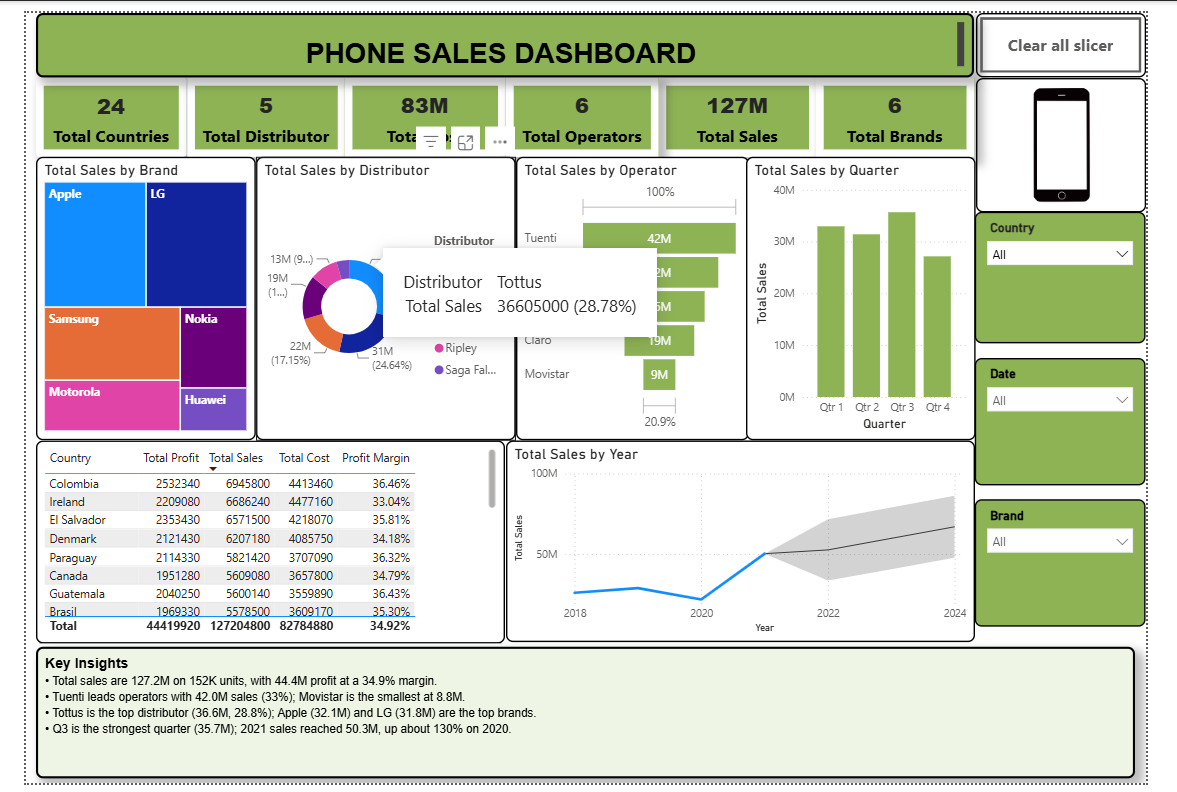

What the dashboard file says about the page in this screenshot:
{"tool":"powerbi","page":{"name":"PHONE SALE DASHBOARD","canvas":[1280,880],"ordinal":1},"visuals":[{"type":"card","fields":{"Values":["calculationdata.Total Countries"]},"box":[12,73.8,171.7,90.4],"z":0},{"type":"card","fields":{"Values":["calculationdata.Total Distributor"]},"box":[183.7,73.8,180.7,90.4],"z":1000},{"type":"card","fields":{"Values":["calculationdata.Total Cost"]},"box":[364.4,73.8,183.7,90.4],"z":2000},{"type":"card","fields":{"Values":["calculationdata.Total Sales"]},"box":[722.8,73.8,180.7,90.4],"z":3000},{"type":"card","fields":{"Values":["calculationdata.Total Opreator"]},"box":[548.1,73.8,174.7,90.4],"z":4000},{"type":"card","fields":{"Values":["calculationdata.Total Brands"]},"box":[903.5,73.8,180.7,90.4],"z":5000},{"type":"treemap","fields":{"Group":["Phone Sales.Brand"],"Values":["calculationdata.Total Sales"]},"box":[12,164.1,251.5,323.8],"z":6000},{"type":"donutChart","fields":{"Category":["Phone Sales.Distributor"],"Y":["calculationdata.Total Sales"]},"box":[263.5,164.1,296.7,323.8],"z":7000},{"type":"funnel","fields":{"Category":["Phone Sales.Operator"],"Y":["calculationdata.Total Sales"]},"box":[560.2,164.1,266.5,323.8],"z":8000},{"type":"columnChart","fields":{"Category":["Date_Phones.Date.Variation.Date Hierarchy.Quarter"],"Y":["calculationdata.Total Sales"]},"box":[822.2,164.1,262,323.8],"z":9000},{"type":"tableEx","fields":{"Values":["Phone Sales.Country","calculationdata.Total Profit","calculationdata.Total Sales","calculationdata.Total Cost","calculationdata.Profit Margin"]},"box":[12,487.9,536.1,231.9],"z":10000},{"type":"lineChart","fields":{"Category":["Date_Phones.Date.Variation.Date Hierarchy.Year"],"Y":["calculationdata.Total Sales"]},"box":[548.1,487.9,536.1,230.4],"z":11000},{"type":"slicer","fields":{"Values":["Phone Sales.Country"]},"box":[1084.8,226.6,195.4,150.1],"z":12000},{"type":"slicer","fields":{"Values":["Phone Sales.Date"]},"box":[1084.8,393.7,195.4,145.9],"z":13000},{"type":"slicer","fields":{"Values":["Phone Sales.Brand"]},"box":[1084.8,555.2,195.4,145.9],"z":14000},{"type":"textbox","box":[12,0,1072.2,73.8],"z":15000},{"type":"image","box":[1086.3,73.6,194.3,153.6],"z":16000},{"type":"actionButton","box":[1085.7,0,194.3,73.8],"z":17000},{"type":"textbox","box":[12,724,1256,150],"z":18000}]}

Visuals, with their boxes in screenshot pixels (x1, y1, x2, y2), scaled from the page's 1280x880 canvas onto the 1177x792 screenshot:
card - calculationdata.Total Countries: 11 66 169 148
card - calculationdata.Total Distributor: 169 66 335 148
card - calculationdata.Total Cost: 335 66 504 148
card - calculationdata.Total Sales: 665 66 831 148
card - calculationdata.Total Opreator: 504 66 665 148
card - calculationdata.Total Brands: 831 66 997 148
treemap - Phone Sales.Brand x calculationdata.Total Sales: 11 148 242 439
donutChart - Phone Sales.Distributor x calculationdata.Total Sales: 242 148 515 439
funnel - Phone Sales.Operator x calculationdata.Total Sales: 515 148 760 439
columnChart - Date_Phones.Date.Variation.Date Hierarchy.Quarter x calculationdata.Total Sales: 756 148 997 439
tableEx - Phone Sales.Country x calculationdata.Total Profit: 11 439 504 648
lineChart - Date_Phones.Date.Variation.Date Hierarchy.Year x calculationdata.Total Sales: 504 439 997 646
slicer - Phone Sales.Country: 998 204 1176 339
slicer - Phone Sales.Date: 998 354 1176 486
slicer - Phone Sales.Brand: 998 500 1176 631
textbox: 11 0 997 66
image: 999 66 1176 204
actionButton: 998 0 1176 66
textbox: 11 652 1166 787
